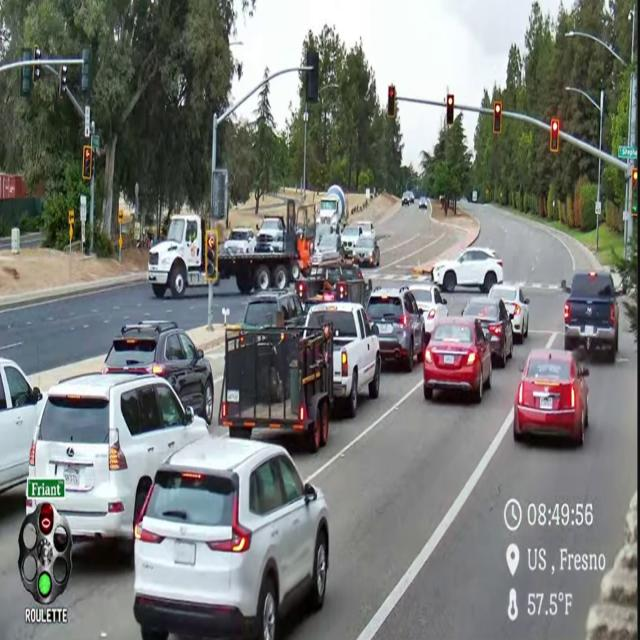car: (134, 437, 328, 639), (29, 374, 208, 551), (102, 320, 213, 423), (513, 350, 588, 445), (423, 317, 492, 402), (0, 359, 43, 493), (366, 287, 424, 371), (462, 297, 513, 367), (432, 247, 503, 292), (488, 284, 530, 344), (241, 291, 305, 328), (410, 284, 448, 345), (353, 236, 380, 267), (223, 228, 255, 253), (340, 225, 362, 256), (357, 221, 375, 238), (402, 192, 412, 206), (418, 197, 427, 208), (409, 192, 414, 204)
traffic signal: (306, 50, 320, 103), (205, 230, 218, 282), (82, 145, 94, 181), (81, 48, 90, 93), (20, 65, 32, 96), (550, 119, 559, 153), (387, 85, 396, 119), (493, 101, 502, 135), (59, 65, 67, 98), (446, 95, 454, 126), (632, 168, 637, 216), (32, 64, 41, 81), (632, 168, 637, 189)
truck: (219, 327, 333, 452), (305, 303, 381, 417), (218, 203, 300, 294), (561, 271, 619, 362), (296, 260, 372, 306), (318, 184, 347, 231)
